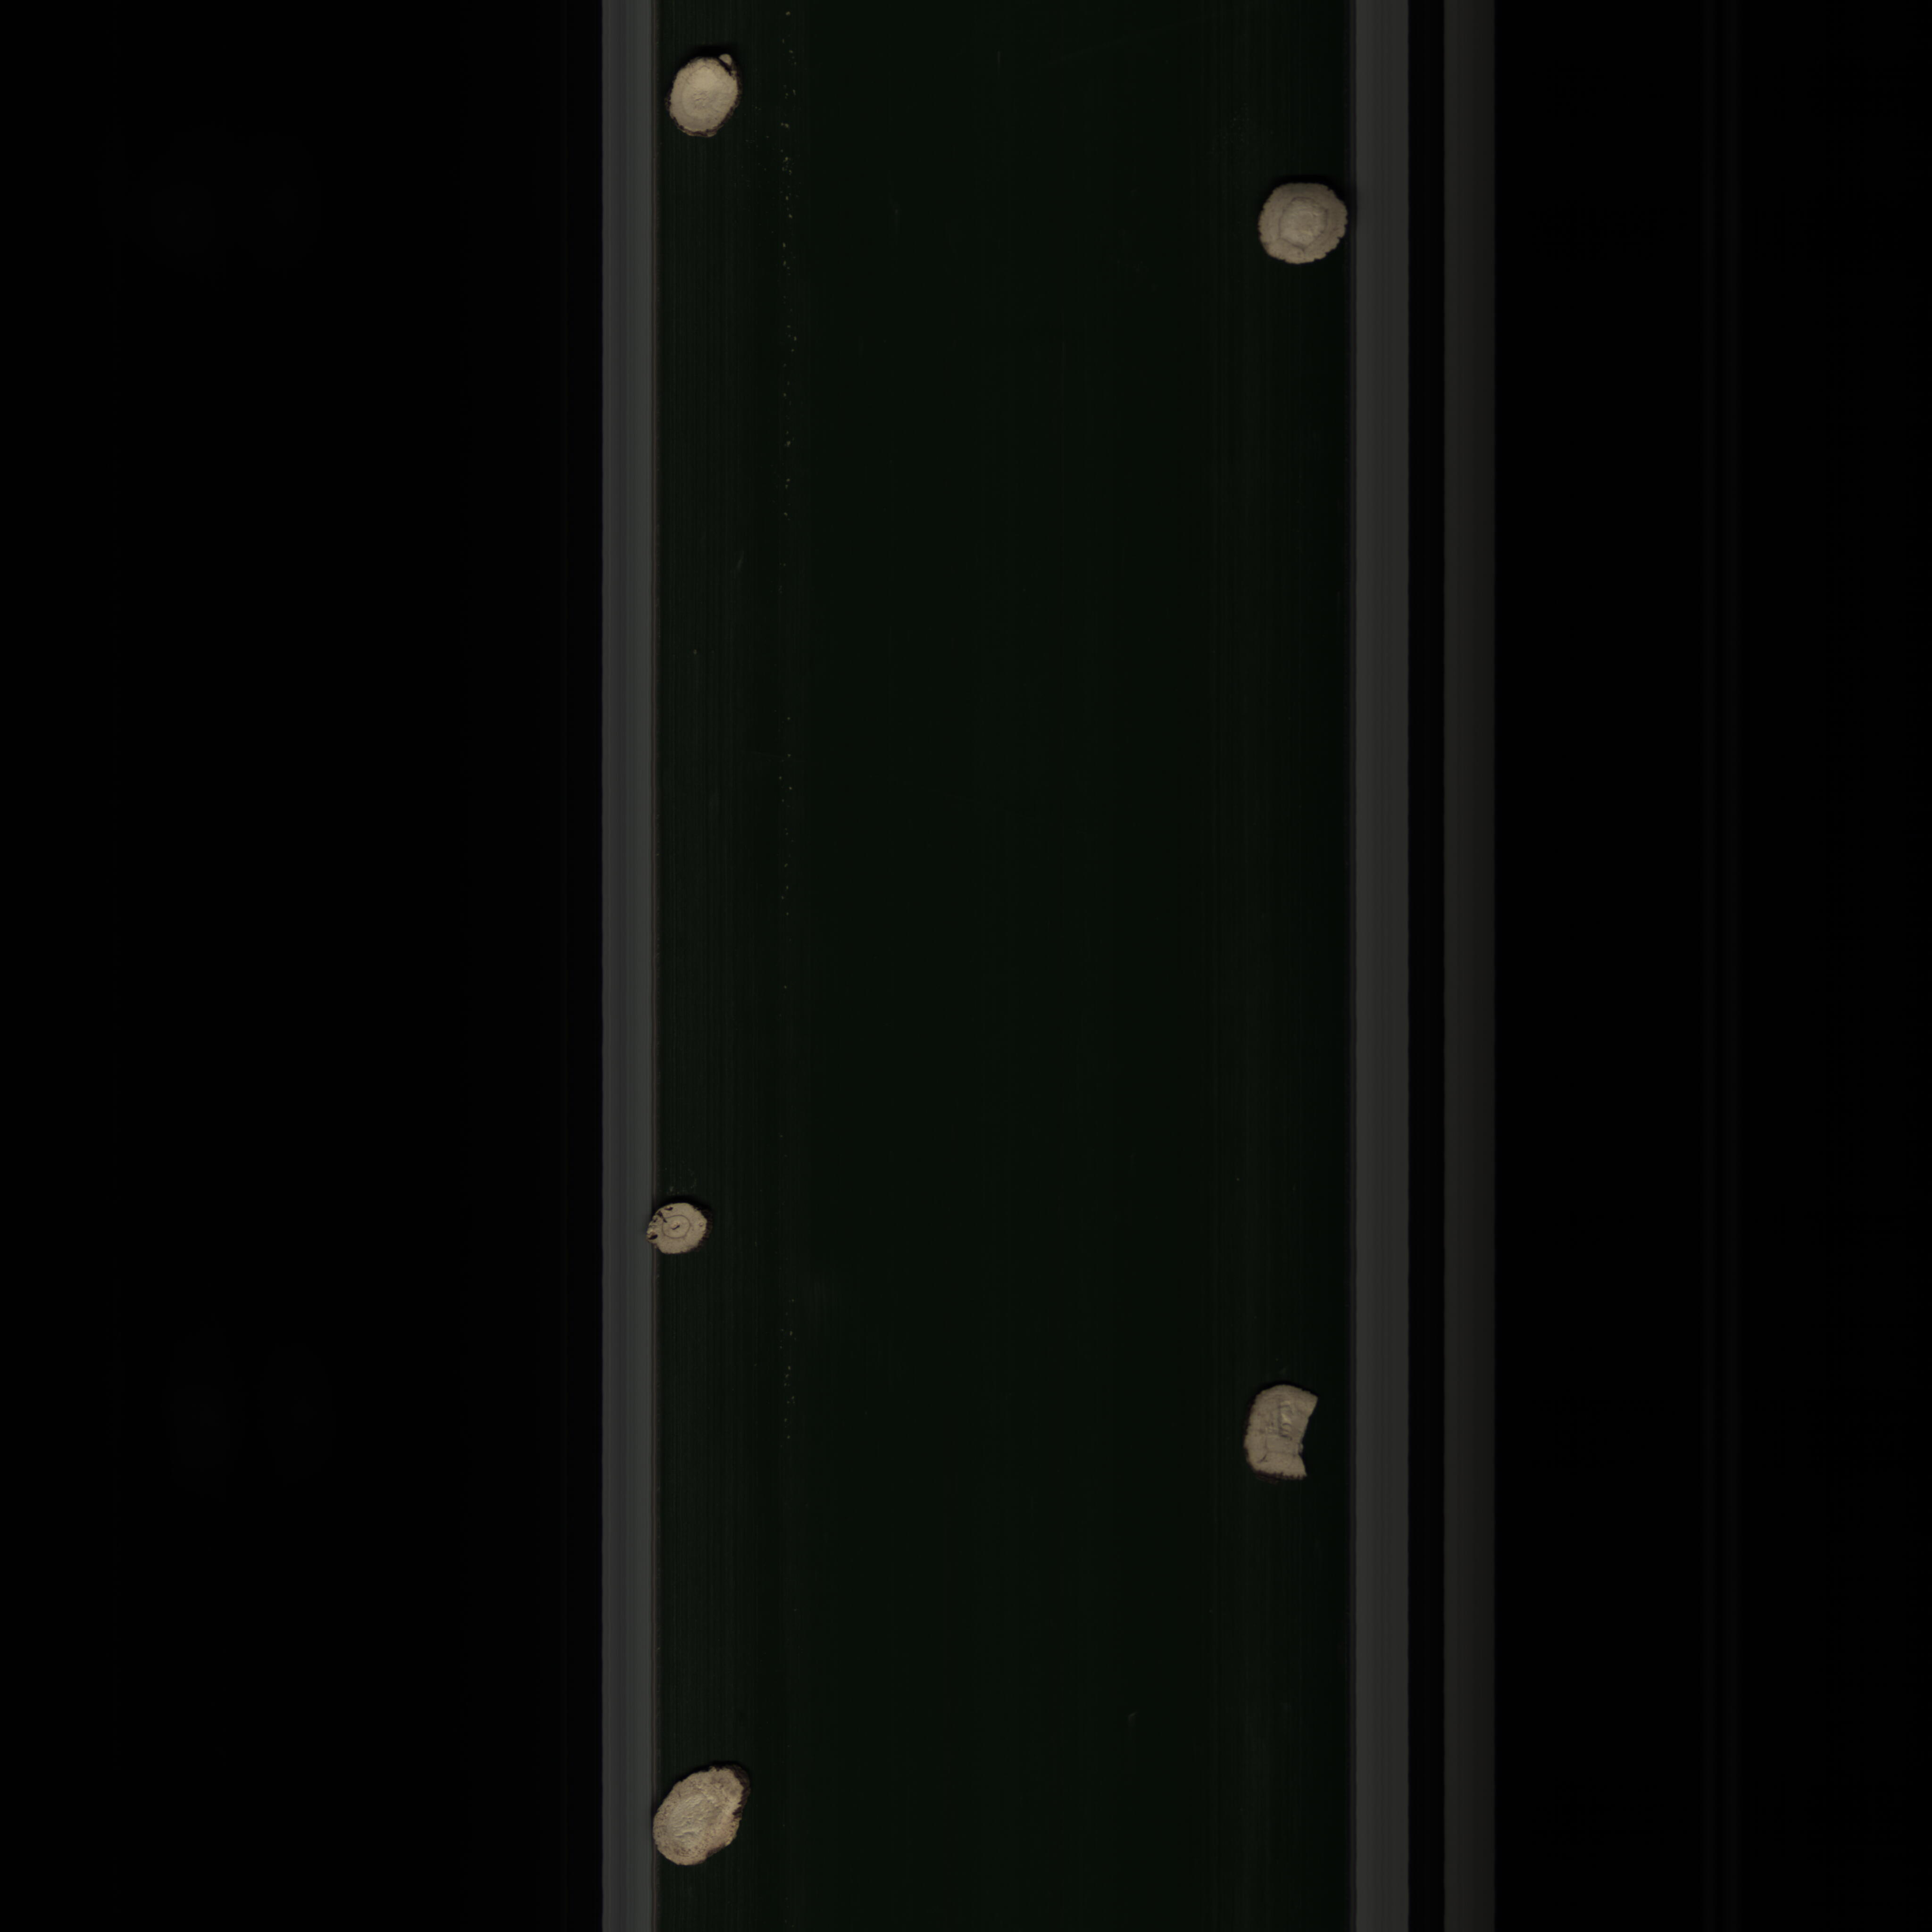debris: (1235, 1378, 1323, 1495)
hole: (646, 1196, 711, 1258)
